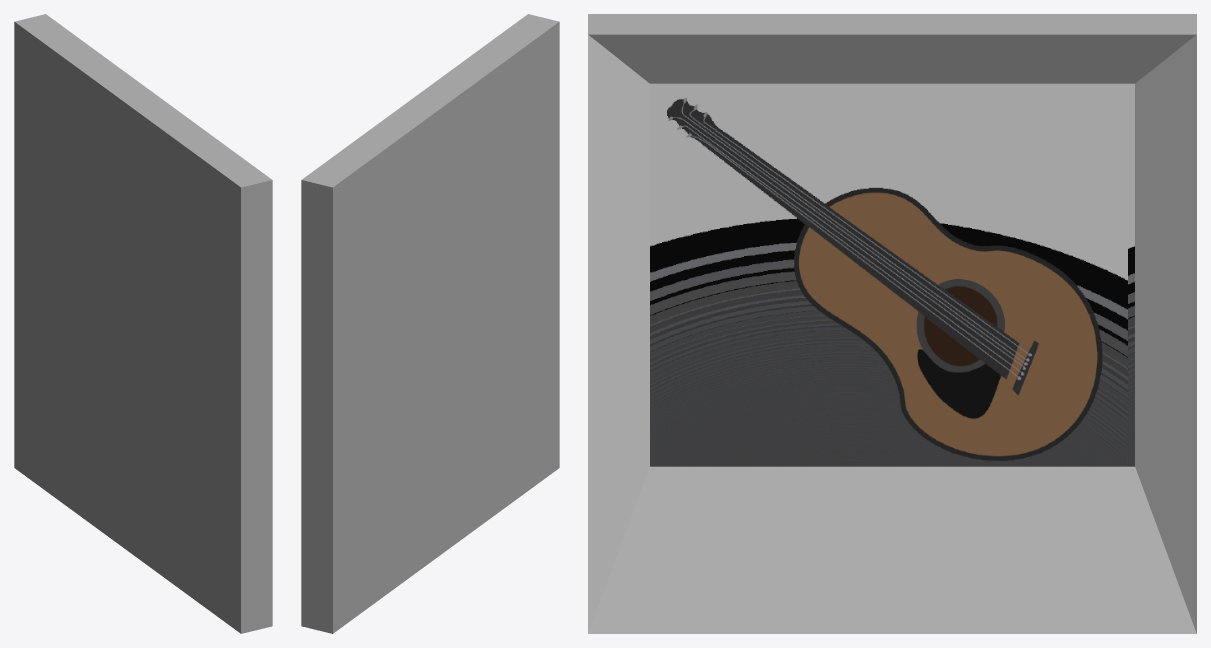
Rendered from gitara.glb.
3 renders of one model, left to right at view 1: azimuth 30°, elevation 25°; view 2: azimuth 150°, elevation 25°; view 3: azimuth 270°, elevation 25°, orthographic. The views are drawn at different scales.
Visible parts, largest first — view 1: Cube; view 2: Cube; view 3: Cube.
Part boxes in pixels (<box>): Cube: <box>14,14,272,633</box>; Cube: <box>301,14,559,633</box>; Cube: <box>588,14,1196,633</box>.
Bounding box in the file's own units: 0.0771 × 1.05 × 0.9652.
Materials: 3 (1 with a texture image).
